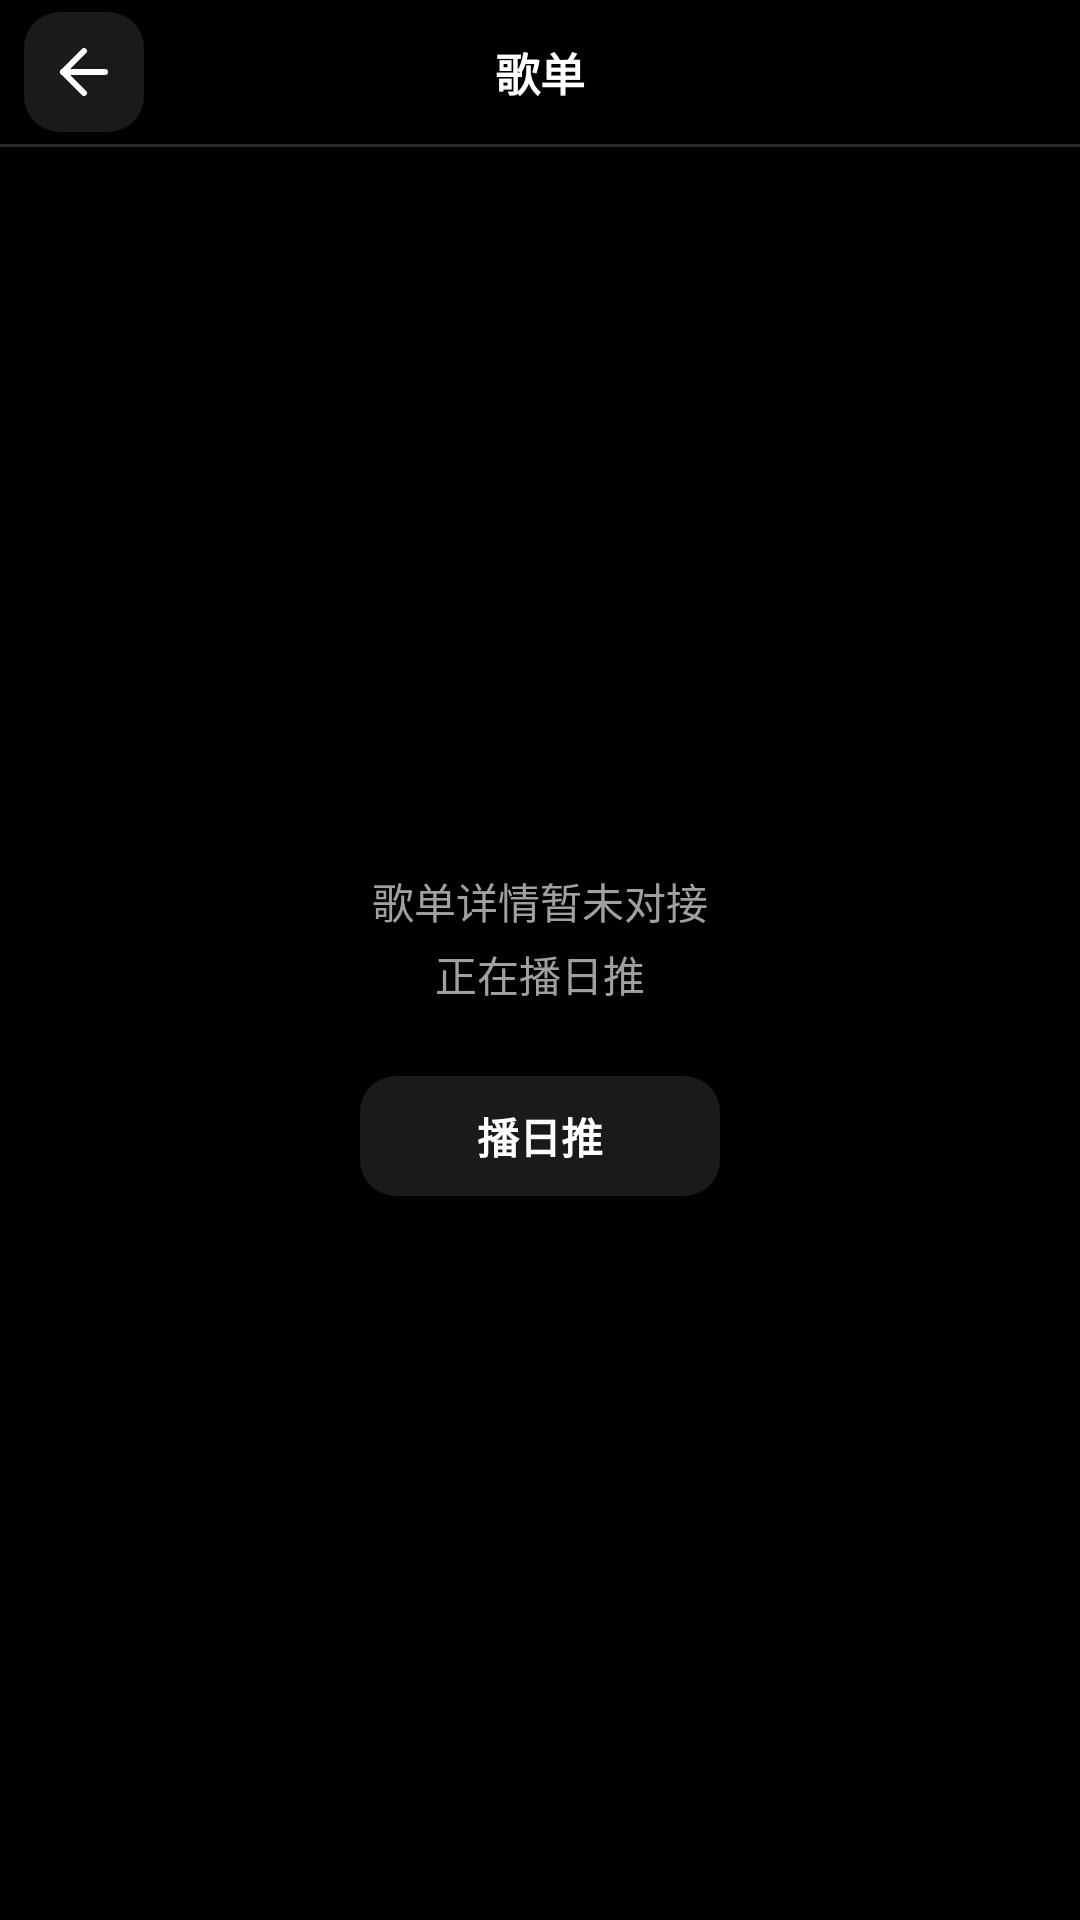

Icons on this 1080 × 1920 Android screen, each with the point to tap as point (x, y):
← 返回: point (84, 72)
